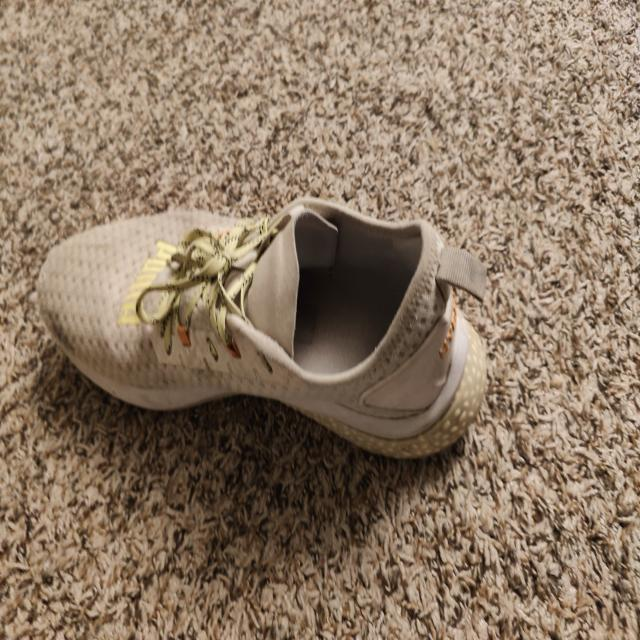white shoes: (44, 200, 484, 458)
